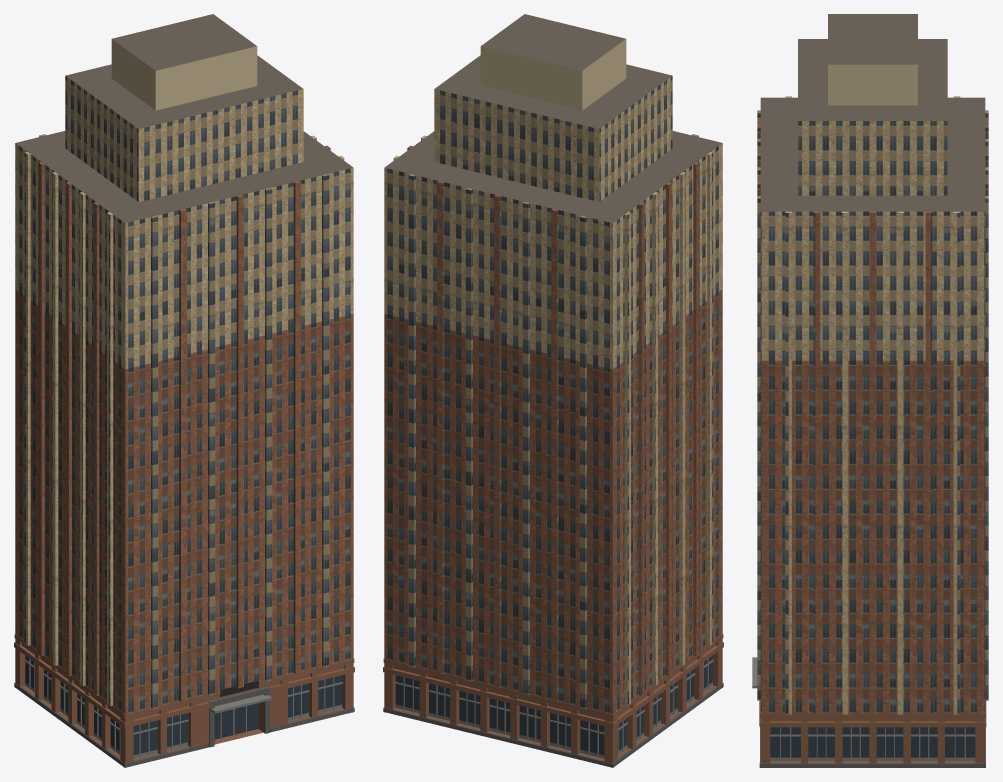
Rendered from seattle_tower.glb.
3 renders of one model, left to right at view 1: azimuth 30°, elevation 25°; view 2: azimuth 150°, elevation 25°; view 3: azimuth 270°, elevation 25°, orthographic. The views are drawn at different scales.
Visible parts, largest first — view 1: seattle_tower; view 2: seattle_tower; view 3: seattle_tower.
Part boxes in pixels (x1=…): seattle_tower: x1=14, y1=14, x2=354, y2=767; seattle_tower: x1=383, y1=14, x2=723, y2=767; seattle_tower: x1=752, y1=14, x2=988, y2=767.
Bounding box in the file's own units: 36.9 × 99 × 31.55.
Materials: 3 (3 with a texture image).
